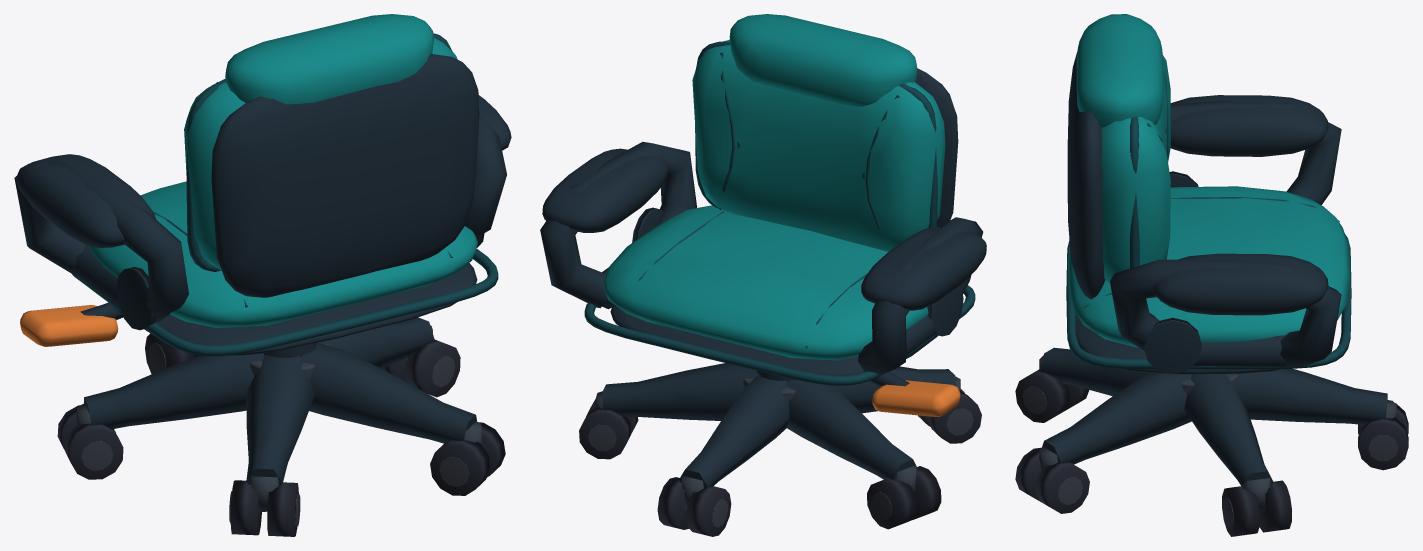
The model's file is chair.glb.
3 views of the same model, side by side, from view 1: azimuth 30°, elevation 25°; view 2: azimuth 150°, elevation 25°; view 3: azimuth 270°, elevation 25° (orthographic). The views are drawn at different scales.
Parts seen in each view (by area): view 1: SeatPivot_Geometry, Chair_Geometry; view 2: SeatPivot_Geometry, Chair_Geometry; view 3: SeatPivot_Geometry, Chair_Geometry.
Boxes of the visible parts, left/top/right/bottom form: SeatPivot_Geometry: left=14, top=14, right=511, bottom=355; Chair_Geometry: left=57, top=317, right=505, bottom=536; SeatPivot_Geometry: left=540, top=14, right=986, bottom=416; Chair_Geometry: left=579, top=363, right=981, bottom=536; SeatPivot_Geometry: left=1066, top=14, right=1351, bottom=374; Chair_Geometry: left=1015, top=347, right=1408, bottom=536.
Size of the model in its own units: 1.93 by 1.89 by 1.63.
